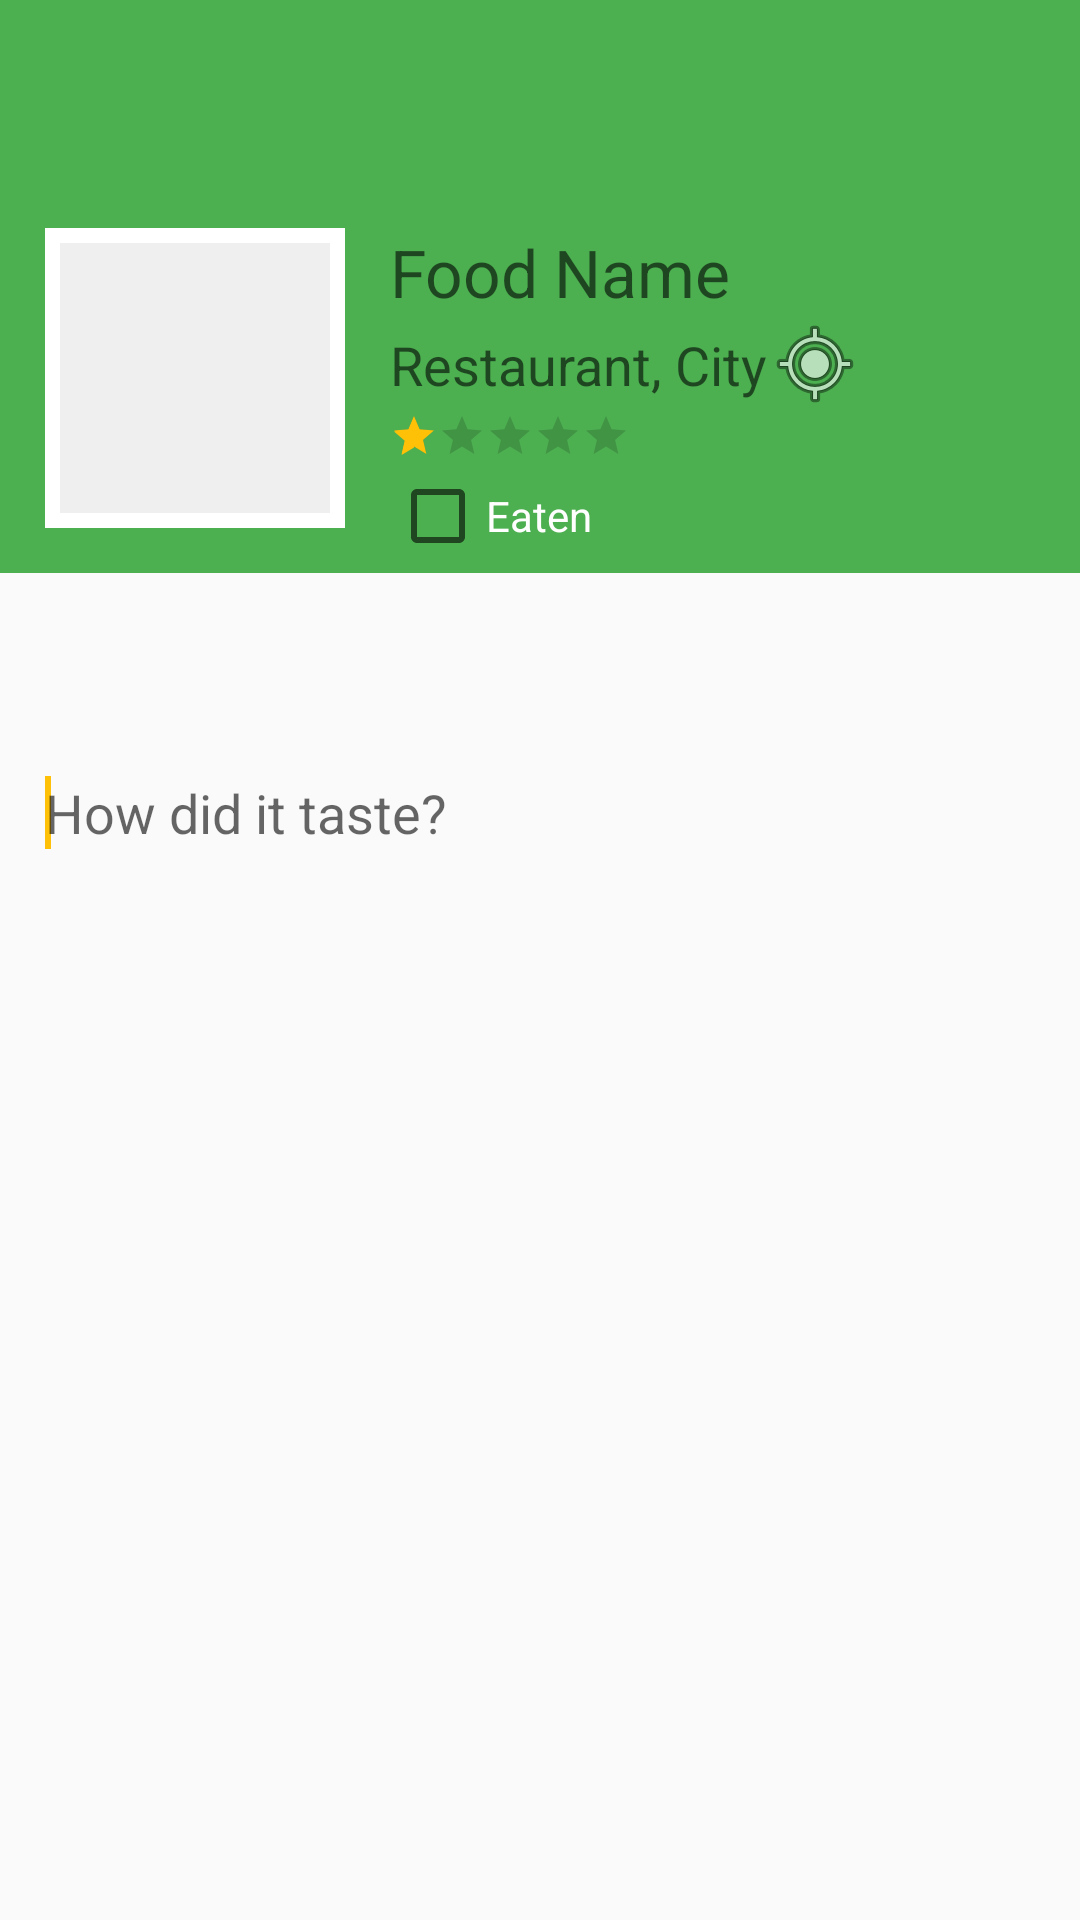

Icons on this 1080x1920 Android screen, each with the point to tap as (x,y):
mylocation: (815,364)
